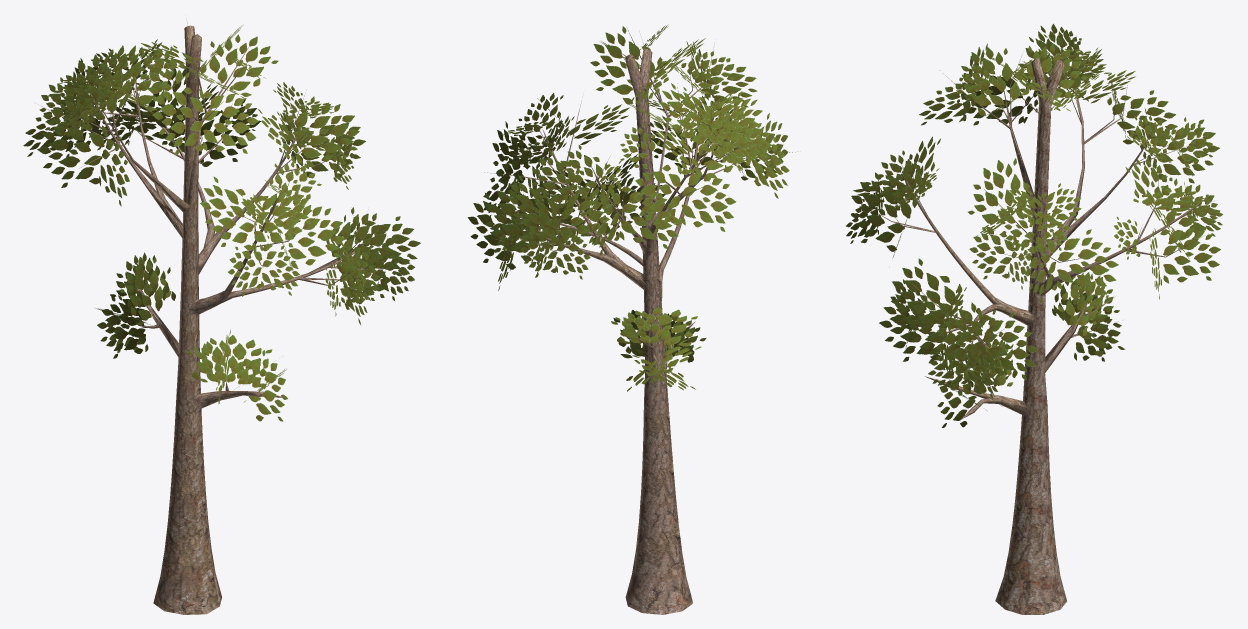
File: Tree 3.fbx
3 views of the same model, side by side, from view 1: azimuth 30°, elevation 25°; view 2: azimuth 150°, elevation 25°; view 3: azimuth 270°, elevation 25° (orthographic). The views are drawn at different scales.
Parts seen in each view (by area): view 1: img_2499_1, bark02_0; view 2: img_2499_1, bark02_0; view 3: img_2499_1, bark02_0.
Boxes of the visible parts, x1=… form: img_2499_1: x1=23, y1=24, x2=420, y2=421; bark02_0: x1=34, y1=20, x2=384, y2=614; img_2499_1: x1=467, y1=24, x2=789, y2=397; bark02_0: x1=484, y1=28, x2=795, y2=614; img_2499_1: x1=846, y1=23, x2=1222, y2=427; bark02_0: x1=861, y1=41, x2=1211, y2=614.
Size of the model in its own units: 317 by 512 by 329.
